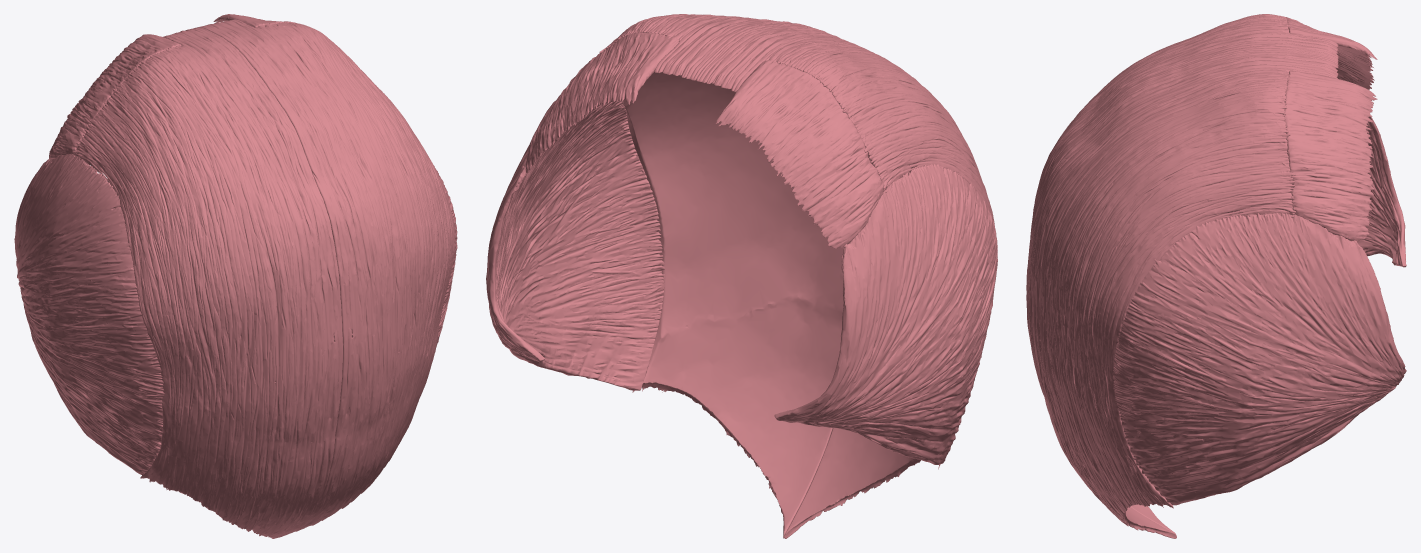
Rendered from crane-muscles.glb.
3 renders of one model, left to right at view 1: azimuth 30°, elevation 25°; view 2: azimuth 150°, elevation 25°; view 3: azimuth 270°, elevation 25°, orthographic. The views are drawn at different scales.
Parts seen in each view (by area): view 1: aponevrose_epicranienne, temporo_parietal_droit, occipital_muscle_droit, temporo_parietal_gauche; view 2: aponevrose_epicranienne, temporo_parietal_droit, temporo_parietal_gauche, occipital_muscle_droit, occipital_muscle_gauche; view 3: aponevrose_epicranienne, temporo_parietal_gauche, occipital_muscle_gauche, temporo_parietal_droit, occipital_muscle_droit.
Part boxes in pixels (left/top/right/bottom): aponevrose_epicranienne: left=72, top=19, right=455, bottom=538; temporo_parietal_droit: left=14, top=154, right=164, bottom=475; occipital_muscle_droit: left=49, top=34, right=181, bottom=159; temporo_parietal_gauche: left=434, top=166, right=457, bottom=352; aponevrose_epicranienne: left=599, top=14, right=994, bottom=538; temporo_parietal_droit: left=774, top=163, right=997, bottom=464; temporo_parietal_gauche: left=486, top=99, right=664, bottom=390; occipital_muscle_droit: left=715, top=60, right=884, bottom=248; occipital_muscle_gauche: left=526, top=32, right=679, bottom=172; aponevrose_epicranienne: left=1026, top=14, right=1338, bottom=538; temporo_parietal_gauche: left=1113, top=212, right=1406, bottom=505; occipital_muscle_gauche: left=1283, top=70, right=1377, bottom=241; temporo_parietal_droit: left=1226, top=117, right=1406, bottom=267; occipital_muscle_droit: left=1286, top=17, right=1377, bottom=89.
Size of the model in its own units: 156 by 182 by 129.
